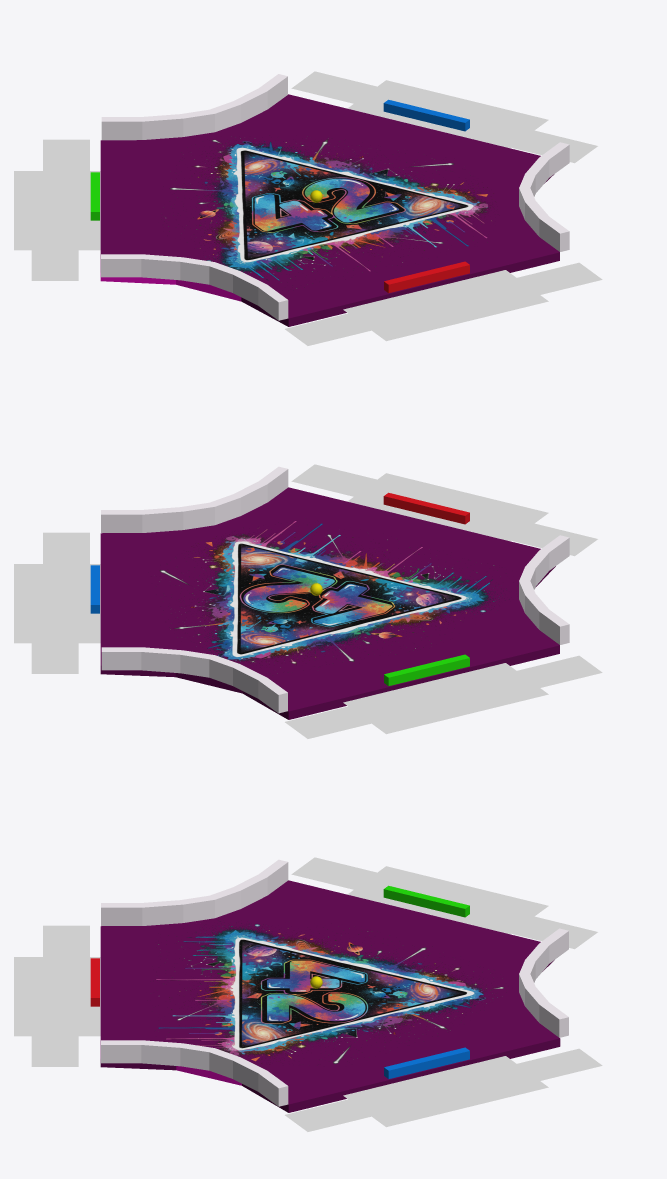
Rendered from pong3p.glb.
The picture shows the model from 3 angles, top to bottom: view 1: azimuth 30°, elevation 25°; view 2: azimuth 150°, elevation 25°; view 3: azimuth 270°, elevation 25°; orthographic projection.
Parts seen in each view (by area): view 1: court, court-graphic, alias1, alias3, wall1.001, wall1.007, alias2, wall1.002, score1.2, score2.1, score3.2, score3.1 (+4 smaller); view 2: court, court-graphic, alias3, alias2, alias1, wall1.007, wall1.002, wall1.001, score1.2, score3.2, score2.2, score3.1 (+4 smaller); view 3: court, court-graphic, alias2, alias1, alias3, wall1.002, wall1.001, wall1.007, score3.1, score1.1, score2.2, score2.1 (+4 smaller).
Boxes of the visible parts, x1,y1,x2,y2 form: court: [100, 94, 559, 326]; court-graphic: [161, 135, 497, 288]; alias1: [343, 270, 548, 341]; alias3: [14, 171, 100, 250]; wall1.001: [101, 254, 288, 320]; wall1.007: [101, 74, 287, 140]; alias2: [347, 80, 548, 148]; wall1.002: [519, 142, 569, 251]; score1.2: [498, 262, 602, 299]; score2.1: [291, 71, 395, 108]; score3.2: [43, 139, 89, 179]; score3.1: [31, 241, 78, 280]; court: [100, 487, 559, 719]; court-graphic: [159, 518, 517, 673]; alias3: [343, 663, 548, 734]; alias2: [14, 564, 100, 643]; alias1: [347, 473, 548, 541]; wall1.007: [101, 647, 287, 713]; wall1.002: [101, 466, 288, 532]; wall1.001: [519, 535, 569, 644]; score1.2: [291, 464, 395, 501]; score3.2: [285, 702, 388, 738]; score2.2: [43, 532, 89, 572]; score3.1: [502, 655, 602, 692]; court: [100, 880, 560, 1112]; court-graphic: [155, 920, 503, 1065]; alias2: [343, 1056, 548, 1127]; alias1: [14, 957, 100, 1036]; alias3: [347, 866, 548, 934]; wall1.002: [101, 1040, 288, 1106]; wall1.001: [101, 859, 288, 925]; wall1.007: [519, 928, 568, 1037]; score3.1: [291, 857, 395, 893]; score1.1: [43, 925, 89, 965]; score2.2: [285, 1097, 388, 1131]; score2.1: [498, 1048, 602, 1080].
Size of the model in its own units: 23.19 by 2 by 20.38.
Materials: 31 (1 with a texture image).
